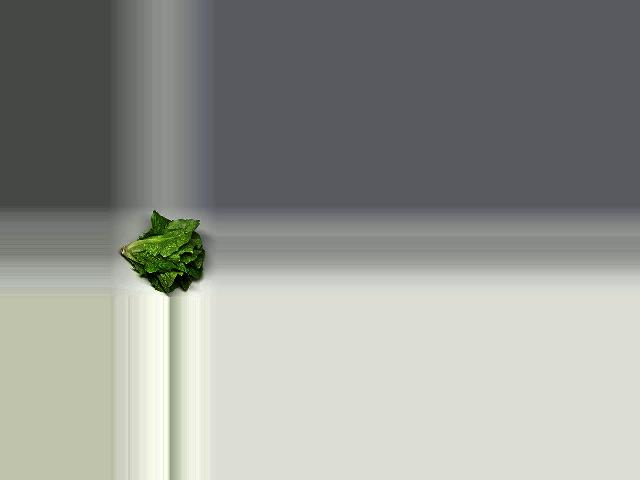lettuce: (116, 218, 209, 292)
